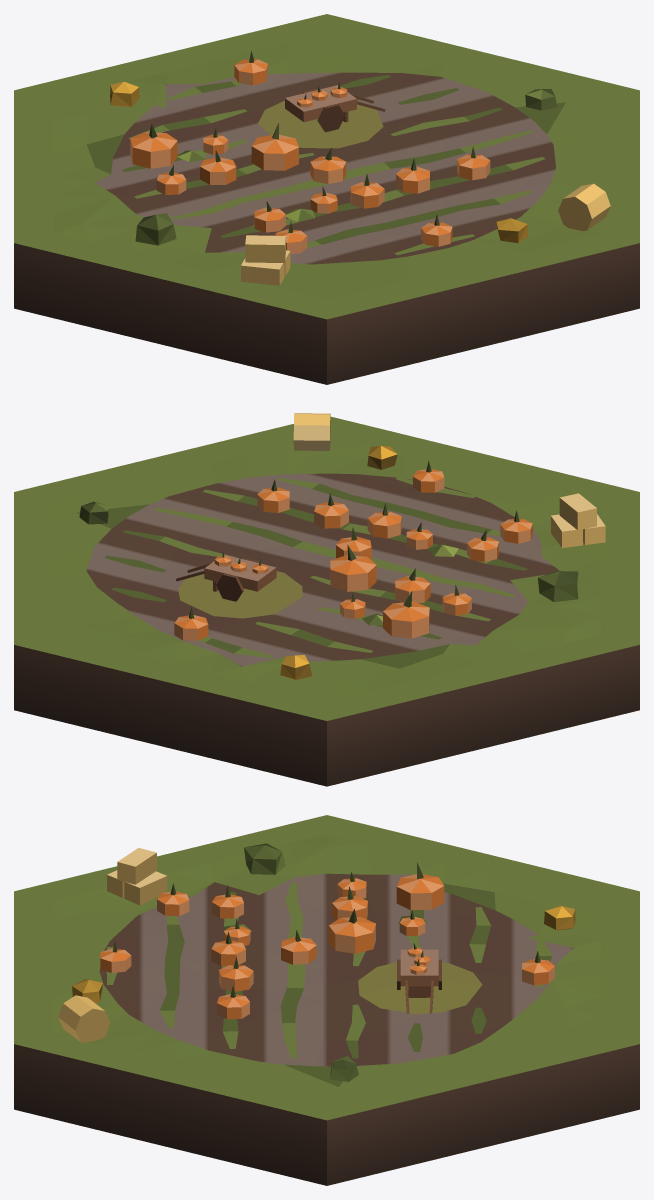
The model's file is SM_Tile_PumpkinPatch_A.fbx.
3 views of the same model, one above another, from view 1: azimuth 30°, elevation 25°; view 2: azimuth 150°, elevation 25°; view 3: azimuth 270°, elevation 25° (orthographic).
Visible parts, largest first — view 1: SM_Tile_PumpkinPatch_A; view 2: SM_Tile_PumpkinPatch_A; view 3: SM_Tile_PumpkinPatch_A.
Part boxes in pixels (left/top/right/bottom): SM_Tile_PumpkinPatch_A: left=14, top=14, right=639, bottom=384; SM_Tile_PumpkinPatch_A: left=14, top=413, right=639, bottom=786; SM_Tile_PumpkinPatch_A: left=14, top=815, right=639, bottom=1185.
Bounding box in the file's own units: 20 × 3.31 × 17.32.
